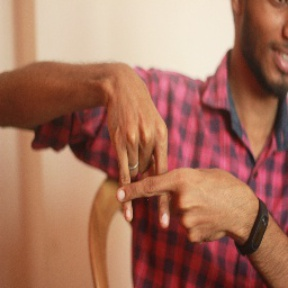H: (101, 124, 193, 229)
